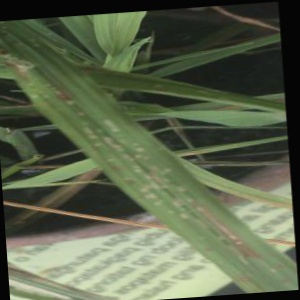Brown_Spot: (195, 190, 270, 265)
